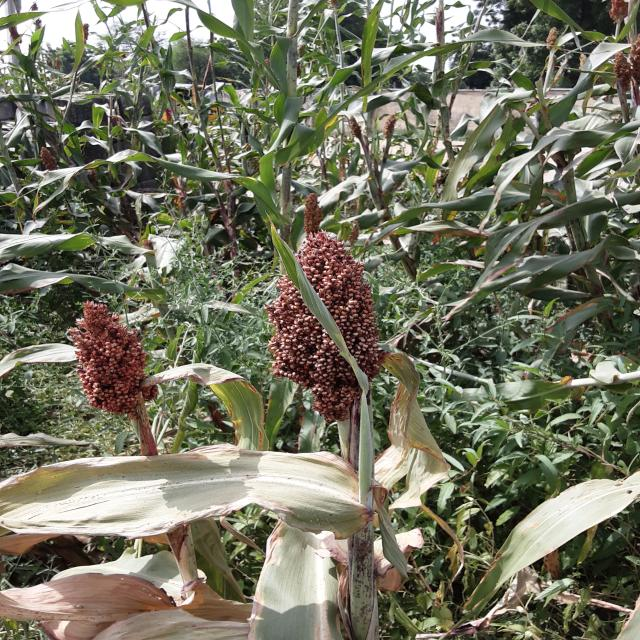RipeSorghum: (244, 210, 398, 436), (34, 296, 209, 430)
